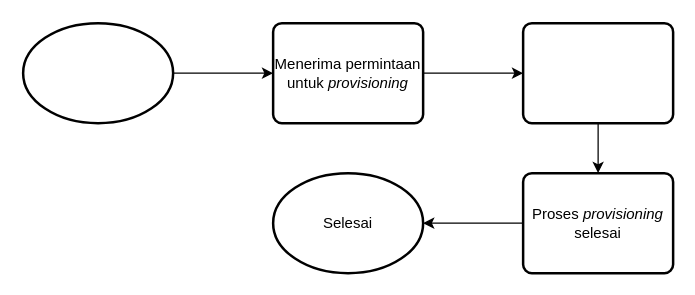
The diagram is 695 pixels wide and 295 high, and some of its shapes have lost their labels. The shapes that lost their labels are listed below. From the top down, each one's centre as x and y in pixels, then its label:
At pixel 97 72: "Mulai".
At pixel 597 72: "Melakukan proses provisioning".
